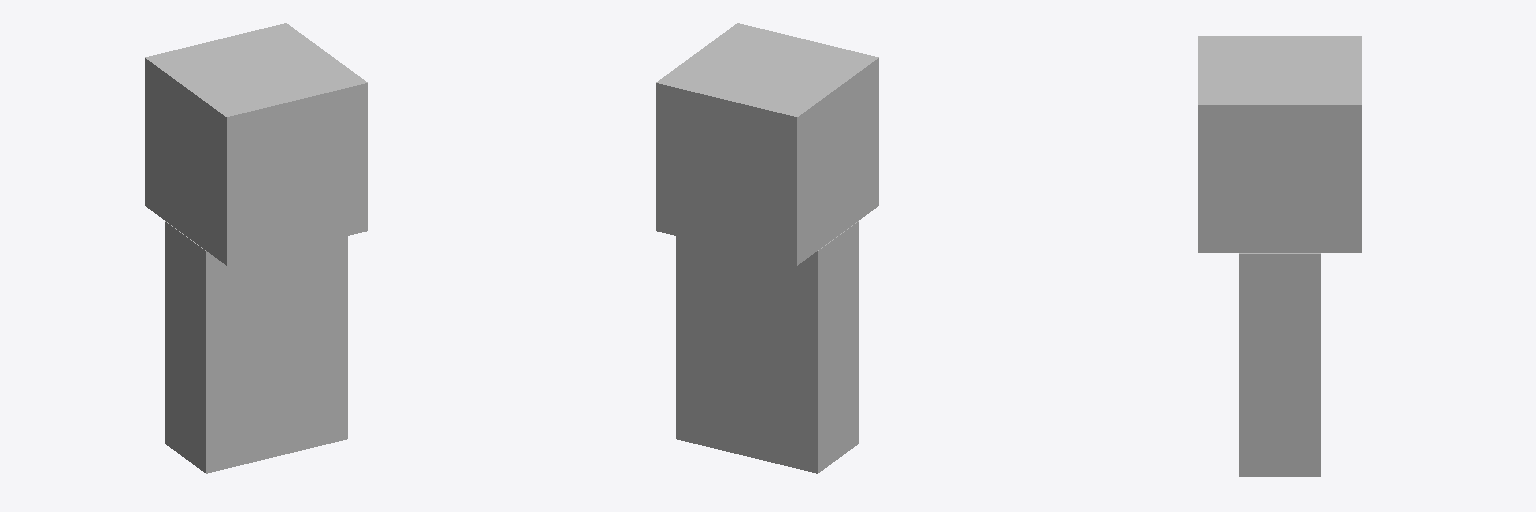
File: KillJoyCaraTorso.obj
The picture shows the model from 3 angles: view 1: azimuth 30°, elevation 25°; view 2: azimuth 150°, elevation 25°; view 3: azimuth 270°, elevation 25°; orthographic projection.
Parts seen in each view (by area): view 1: cabeza, dorso; view 2: cabeza, dorso; view 3: cabeza, dorso.
Part boxes in pixels (left/top/right/bottom): cabeza: left=145, top=23, right=367, bottom=265; dorso: left=165, top=221, right=347, bottom=473; cabeza: left=656, top=23, right=878, bottom=265; dorso: left=676, top=221, right=858, bottom=473; cabeza: left=1198, top=36, right=1361, bottom=252; dorso: left=1239, top=253, right=1320, bottom=476.
Size of the model in its own units: 0.5033 by 1.25 by 0.5.